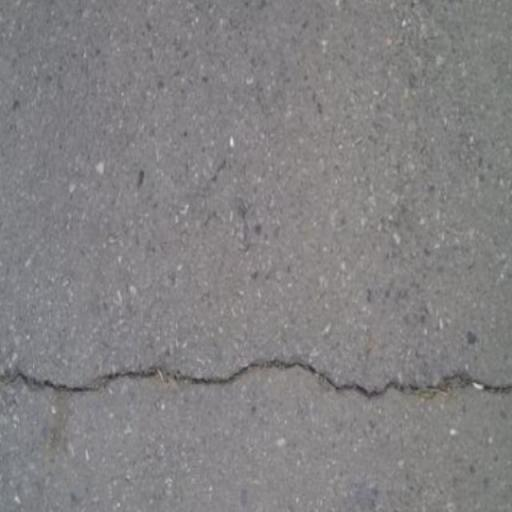severe crack: (0, 348, 512, 420)
